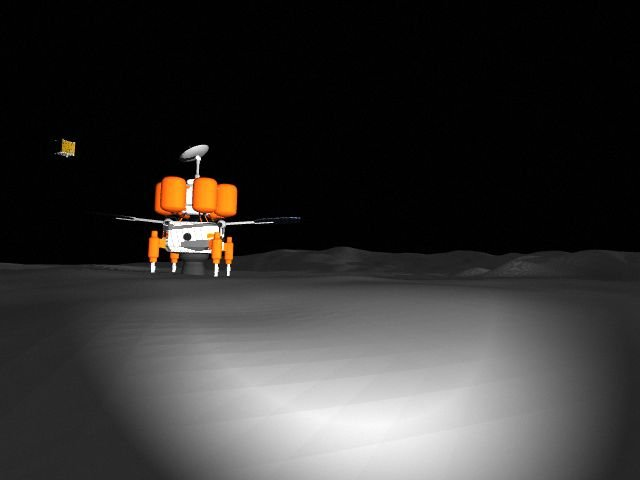cubesat: (46, 134, 82, 163)
